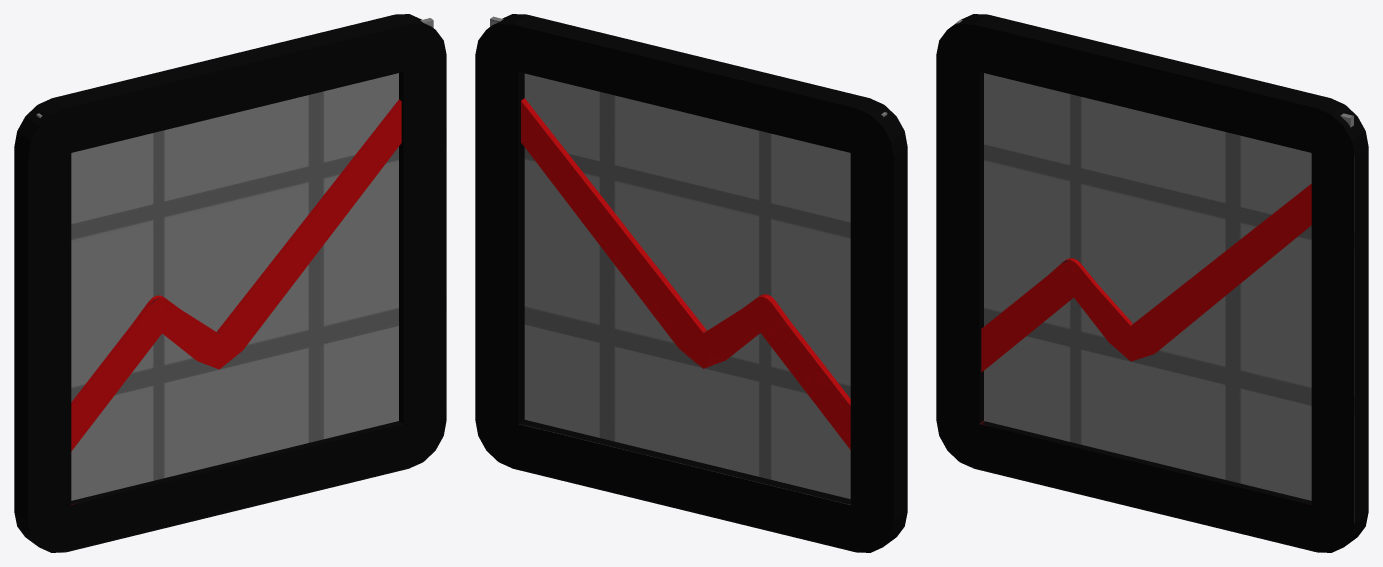
The model's file is Dune_badge.glb.
3 views of the same model, side by side, from view 1: azimuth 30°, elevation 25°; view 2: azimuth 150°, elevation 25°; view 3: azimuth 330°, elevation 25° (orthographic).
Parts seen in each view (by area): view 1: Data Analytics Badge; view 2: Data Analytics Badge; view 3: Data Analytics Badge.
Part boxes in pixels (x1,y1,x2,y2): Data Analytics Badge: (14,14,446,552); Data Analytics Badge: (475,14,907,552); Data Analytics Badge: (936,14,1368,552).
Size of the model in its own units: 0.0726 by 0.0736 by 0.00414.
Materials: 1 (1 with a texture image).
